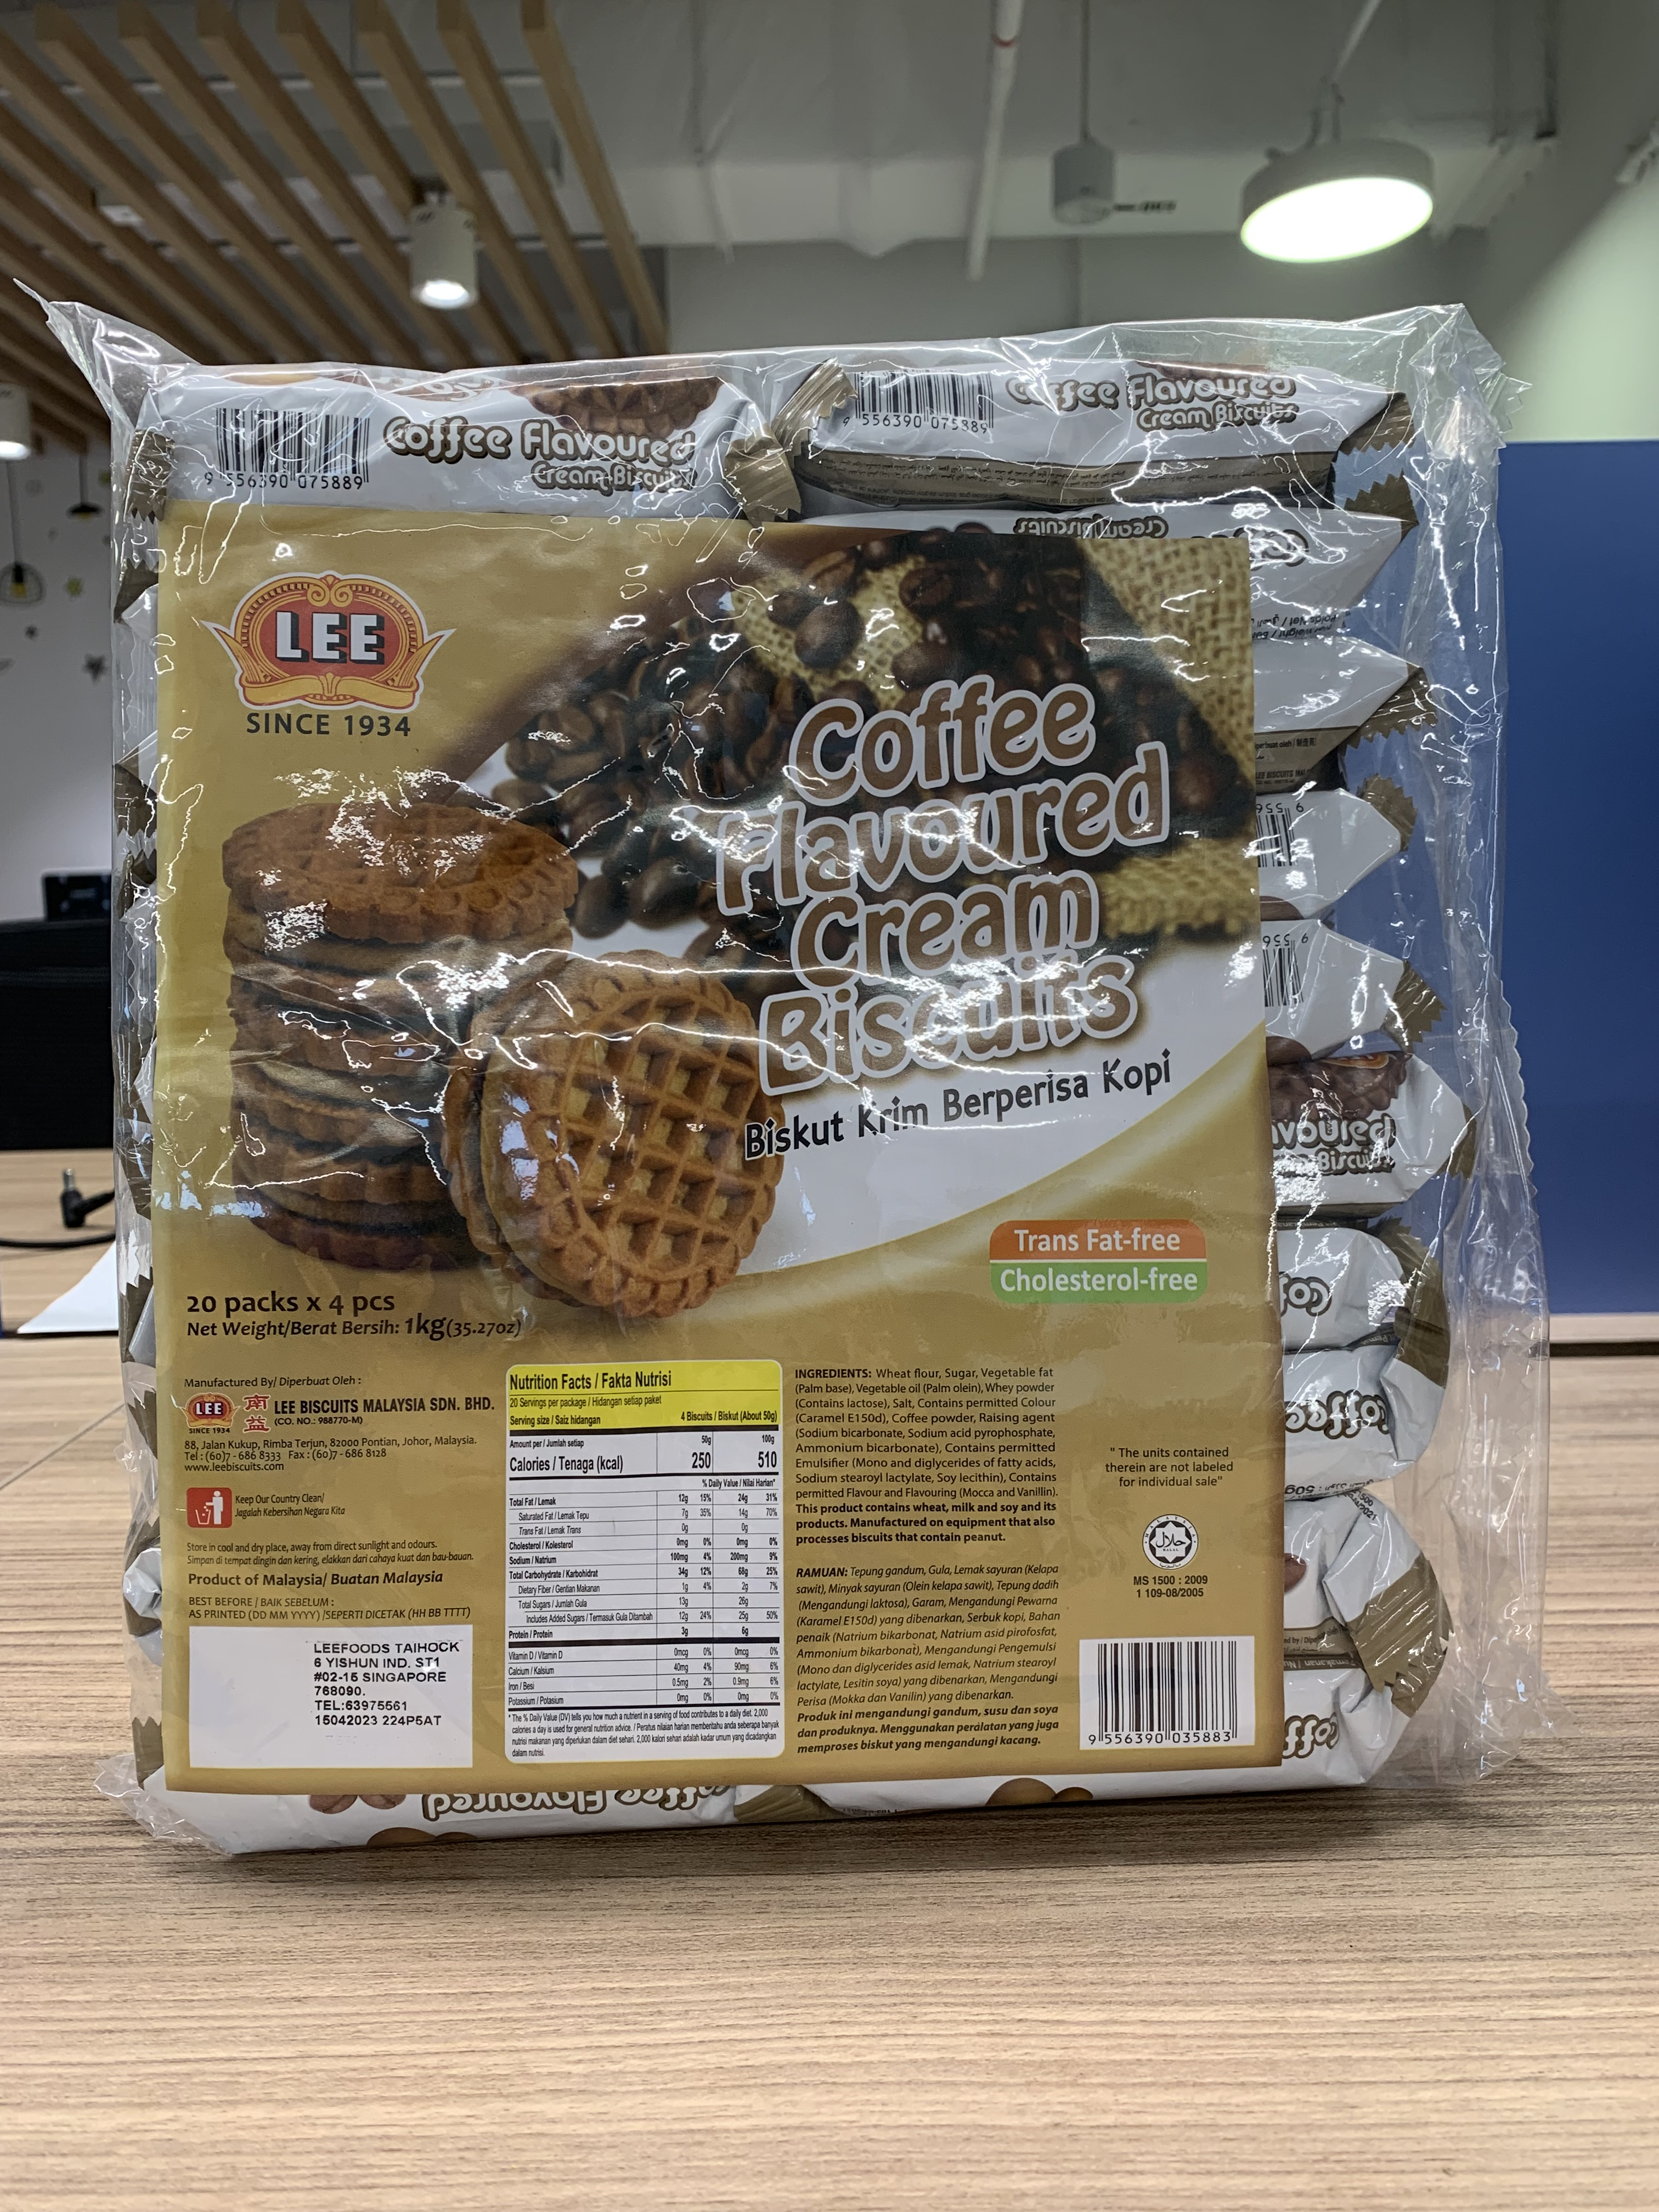cookies: (5, 275, 1579, 1874)
